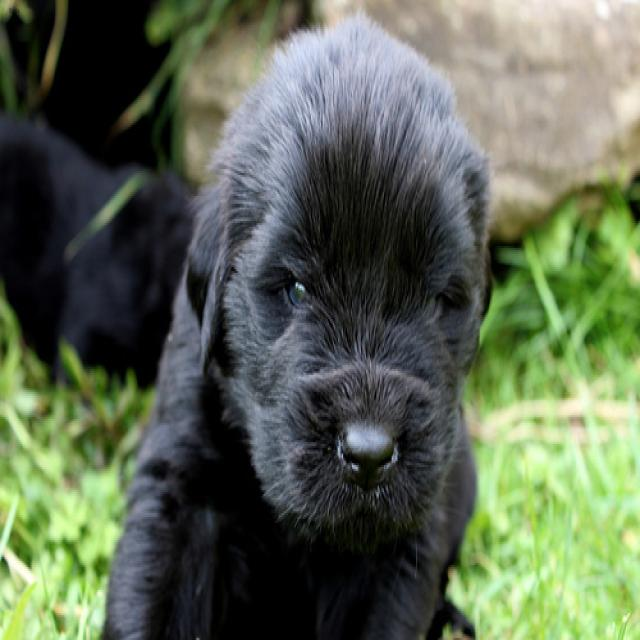dog-newfoundland: (84, 2, 502, 636)
